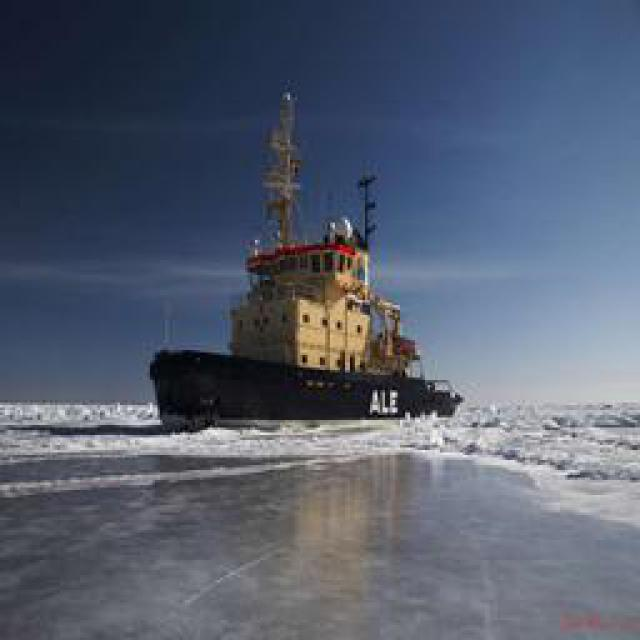Ship: (155, 91, 453, 426)
